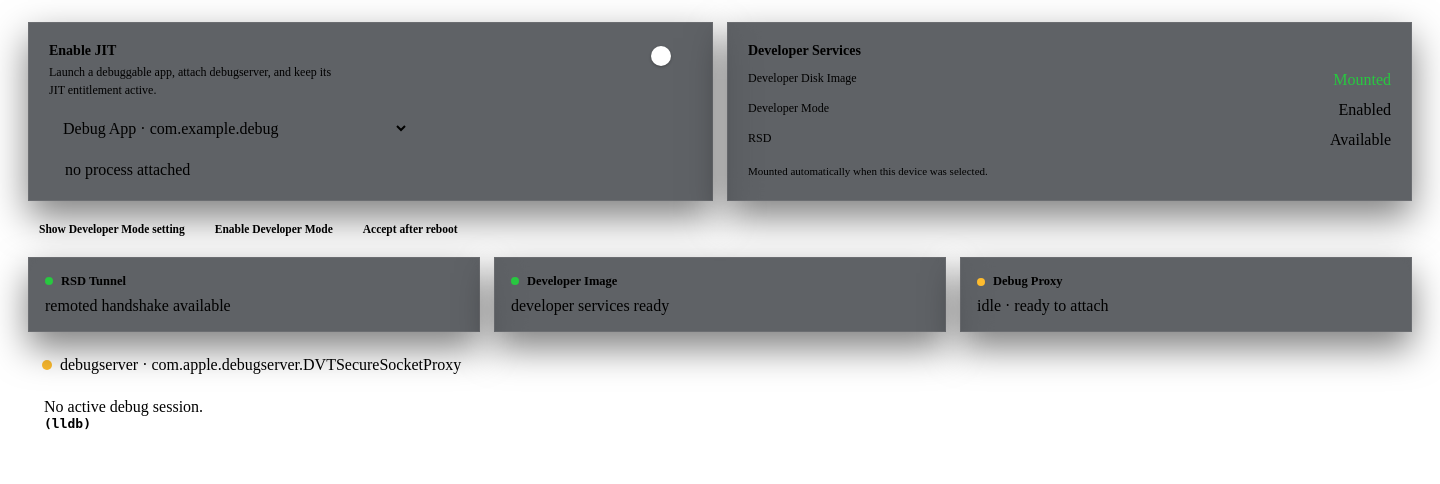
it: current surface acceptance › starts JIT for a debuggable app and detaches when leaving the page
Click the button named "Start JIT session" at (670, 56), box [648,43,692,69]
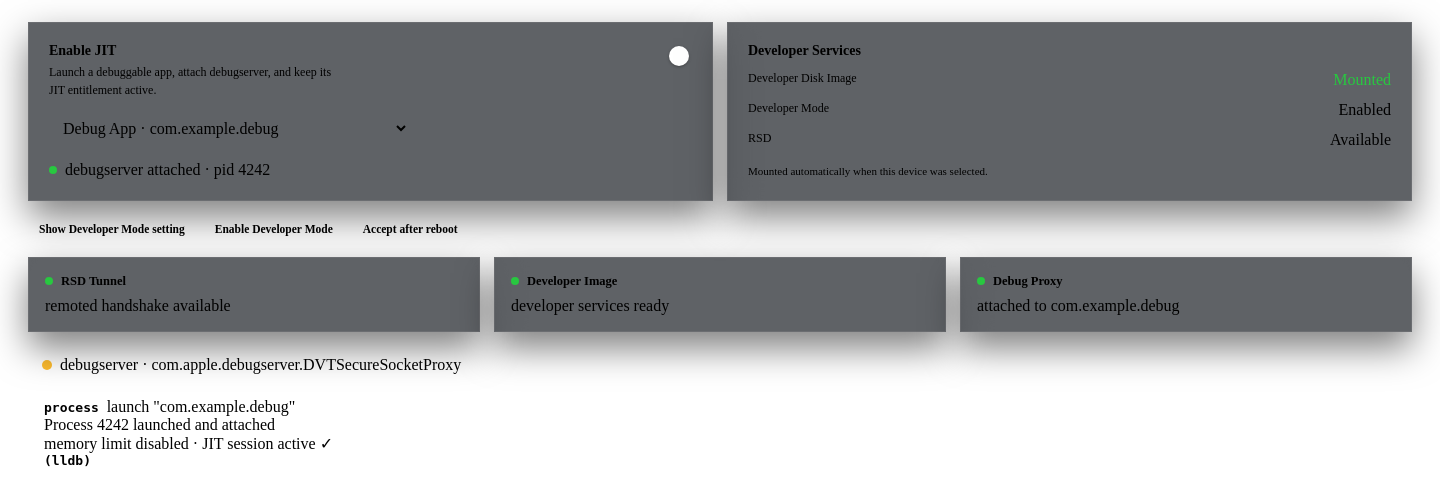
Check: the text "debugserver attached · pid 4242" is shown, box [49,161,270,178]
